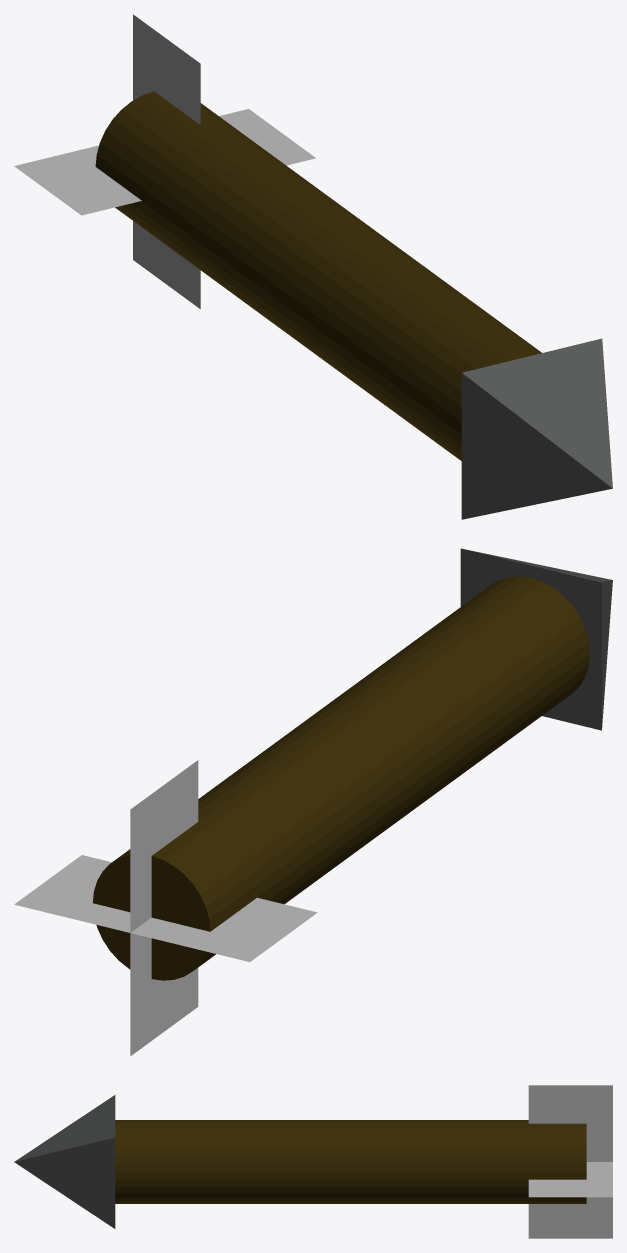
File: Arrow.fbx
3 renders of one model, top to bottom at view 1: azimuth 30°, elevation 25°; view 2: azimuth 150°, elevation 25°; view 3: azimuth 270°, elevation 25°, orthographic. The views are drawn at different scales.
Parts seen in each view (by area): view 1: Cylinder, Cube, Plane.001, Plane; view 2: Cylinder, Plane.001, Plane, Cube; view 3: Cylinder, Plane.001, Cube, Plane.
Part boxes in pixels (x1,y1,x2,y2): Cylinder: [95, 91, 541, 460]; Cube: [461, 338, 612, 519]; Plane.001: [133, 14, 200, 308]; Plane: [14, 109, 315, 215]; Cylinder: [92, 576, 589, 980]; Plane.001: [130, 760, 198, 1056]; Plane: [14, 855, 317, 961]; Cube: [460, 548, 612, 730]; Cylinder: [115, 1120, 586, 1203]; Plane.001: [528, 1085, 612, 1238]; Cube: [14, 1095, 115, 1228]; Plane: [528, 1162, 612, 1197].
Size of the model in its own units: 401 by 401 by 1421.
